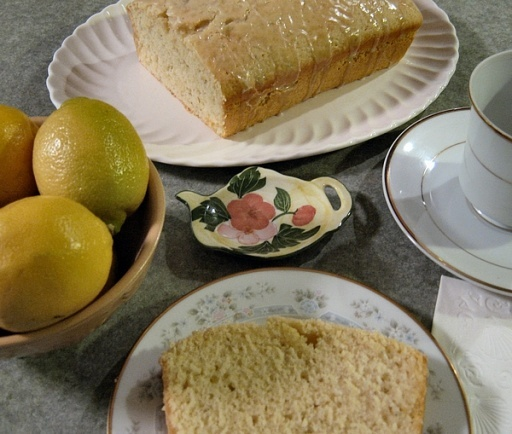background: (126, 80, 342, 294), (100, 1, 339, 95), (0, 66, 121, 226)
